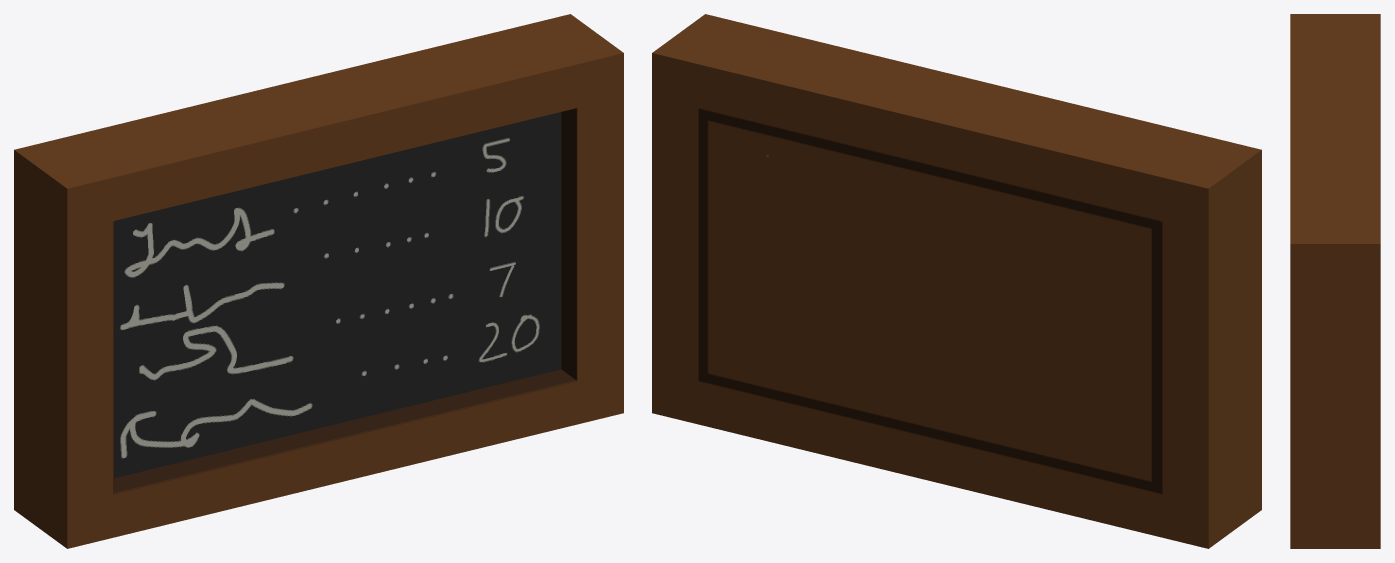
Rendered from blackboard.fbx.
The picture shows the model from 3 angles, left to right: view 1: azimuth 30°, elevation 25°; view 2: azimuth 150°, elevation 25°; view 3: azimuth 270°, elevation 25°; orthographic projection. The views are drawn at different scales.
Visible parts, largest first — view 1: pricelist_board; view 2: pricelist_board; view 3: pricelist_board.
Part boxes in pixels (bbox=[...]): pricelist_board: bbox=[14, 14, 623, 548]; pricelist_board: bbox=[652, 14, 1261, 548]; pricelist_board: bbox=[1290, 14, 1380, 548].
Bounding box in the file's own units: 4.02 × 2.48 × 0.6659.
